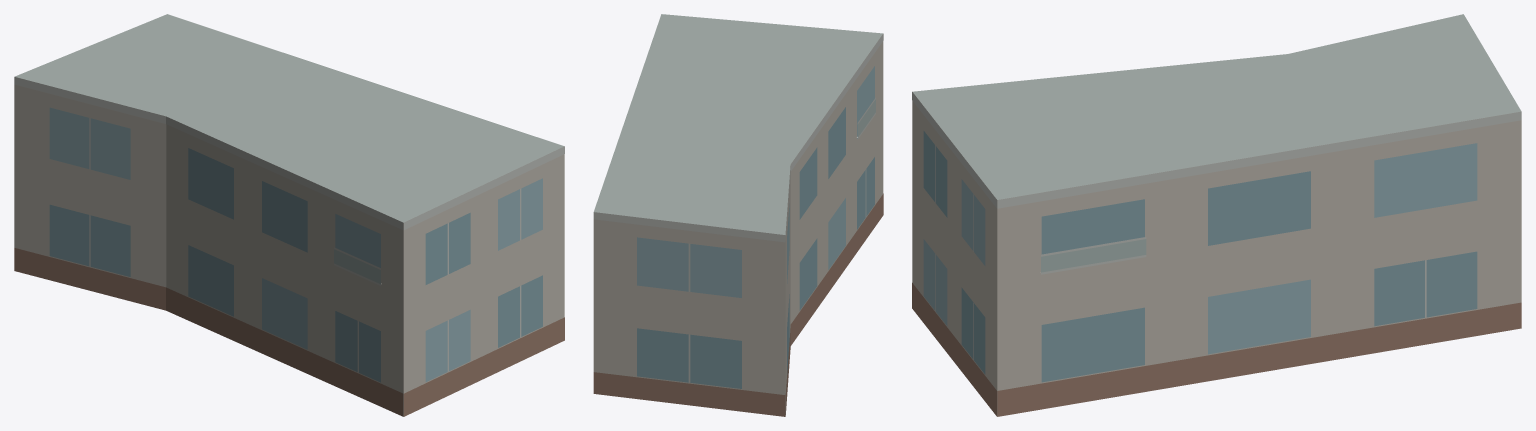
File: survey-upis-32478987.glb
The picture shows the model from 3 angles, left to right: view 1: azimuth 30°, elevation 25°; view 2: azimuth 150°, elevation 25°; view 3: azimuth 270°, elevation 25°; orthographic projection. The views are drawn at different scales.
Parts seen in each view (by area): view 1: survey-upis-32478987.tmp; view 2: survey-upis-32478987.tmp; view 3: survey-upis-32478987.tmp.
Boxes of the visible parts, box(x1,y1,x2,y2) form: survey-upis-32478987.tmp: box(14, 14, 564, 416); survey-upis-32478987.tmp: box(593, 14, 883, 416); survey-upis-32478987.tmp: box(912, 14, 1521, 416).
Size of the model in its own units: 11.24 by 6.1 by 15.55.
